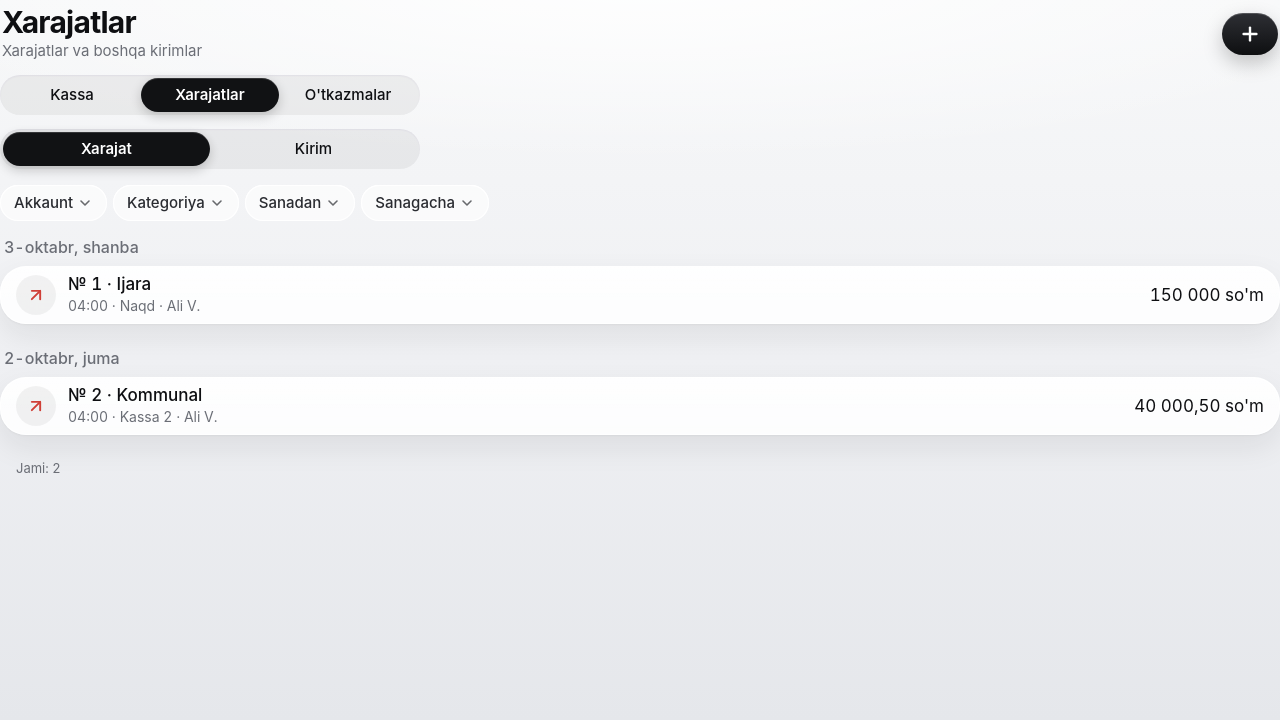
a row opens the sheet of its actions: editing in the expense's sheet, deleting after asking
Click the button "№ 1 · Ijara 04:00 · Naqd · Ali V. 150 000 so'm" at [36, 295], box [0, 266, 1279, 324]
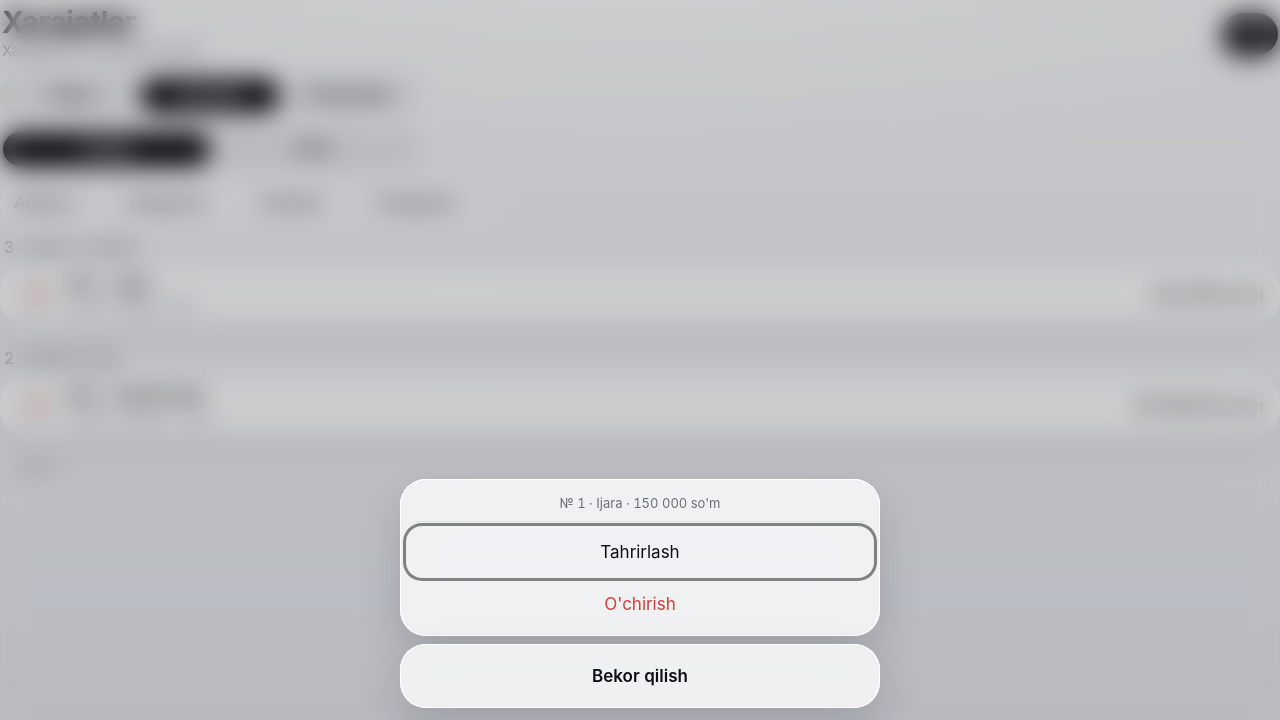
Result: the menu shows "№ 1 · Ijara · 150 000 so'm" at [560, 495, 720, 511]
Result: the menu items read "Tahrirlash", "O'chirish", in this order
Click the menu item "Tahrirlash" at [640, 552], box [406, 526, 874, 578]
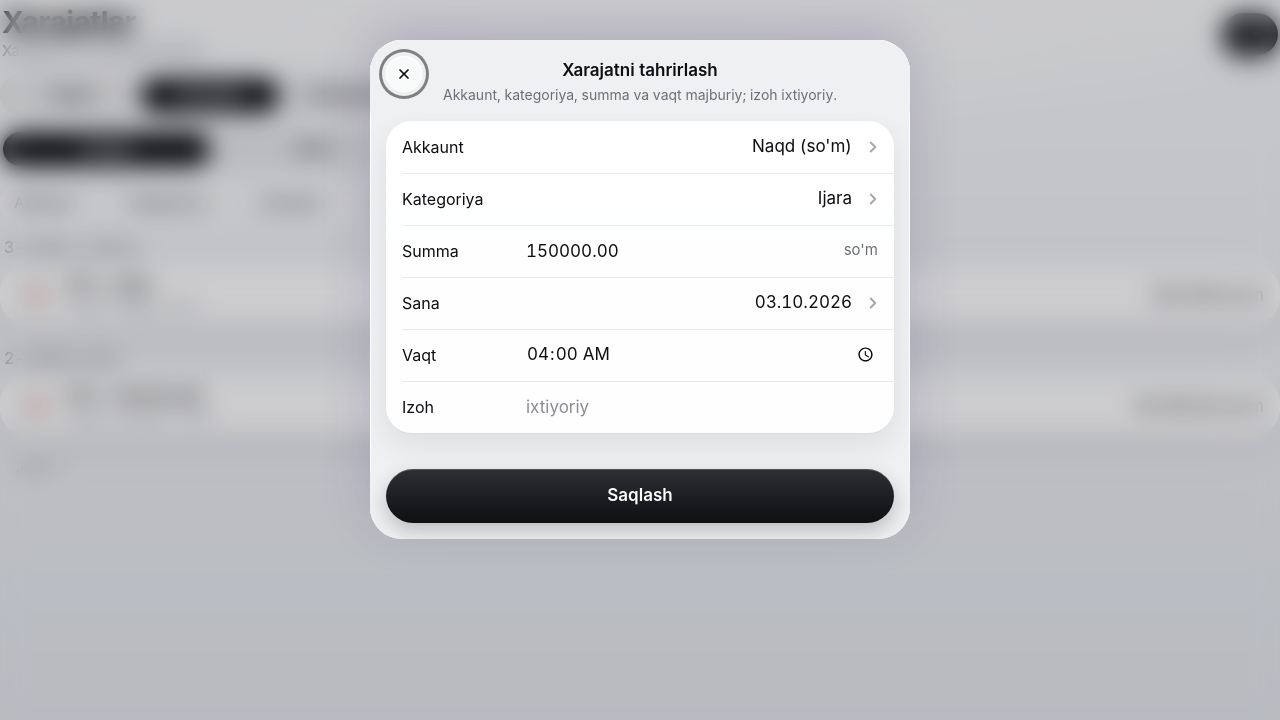
Result: the field labelled "Summa" holds "150000.00" at [526, 228, 832, 272]
Press Escape
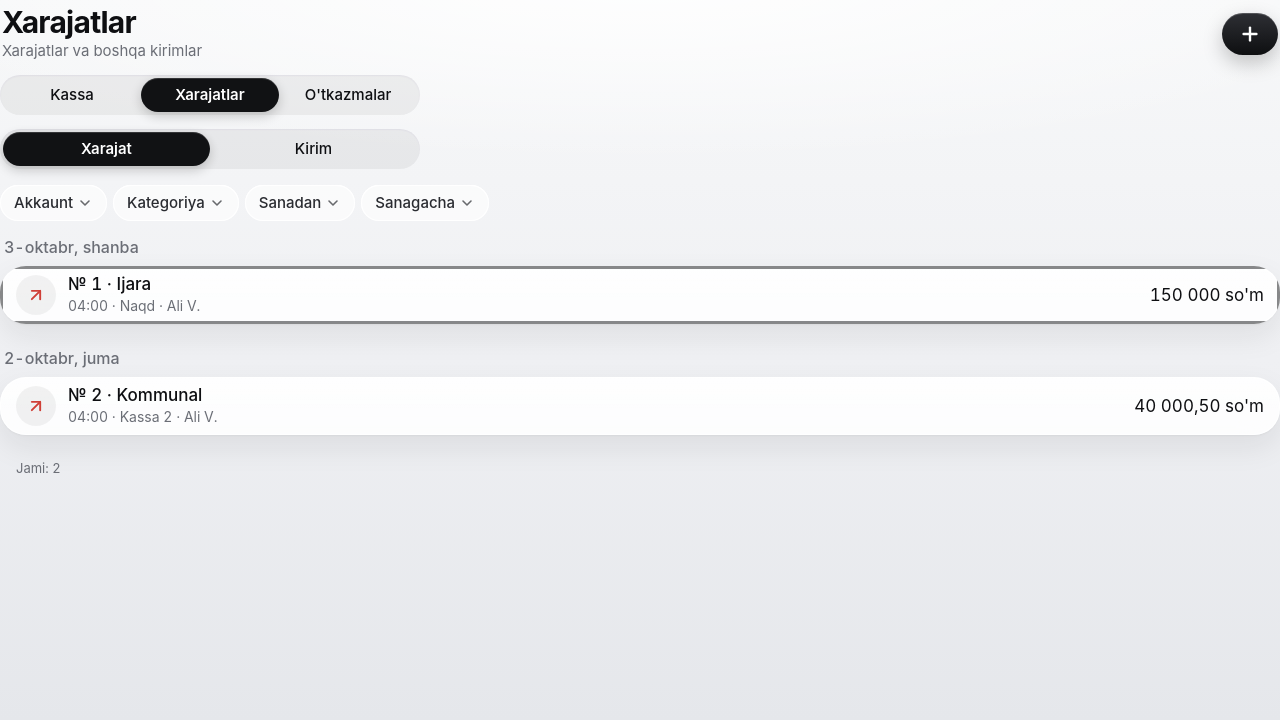
Result: the dialog is gone
Click the button "№ 1 · Ijara 04:00 · Naqd · Ali V. 150 000 so'm" at [36, 295], box [0, 266, 1279, 324]
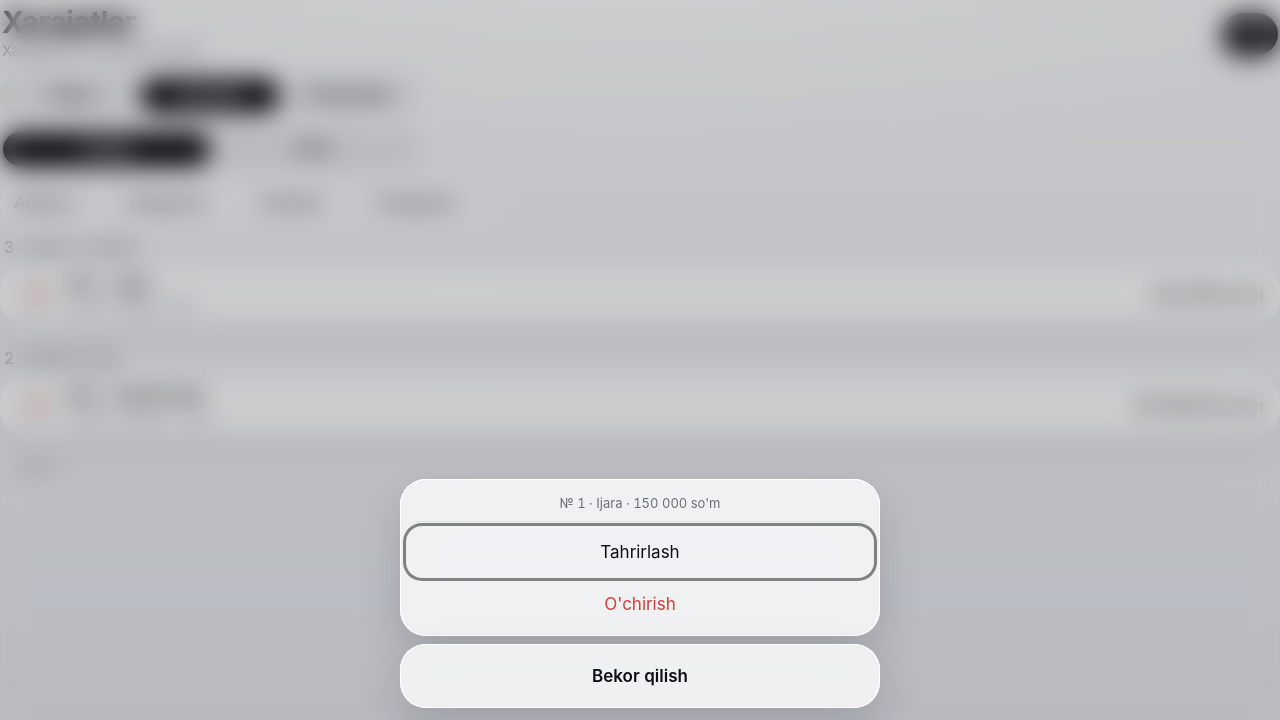
Click the menu item "O'chirish" at [640, 604], box [406, 578, 874, 630]
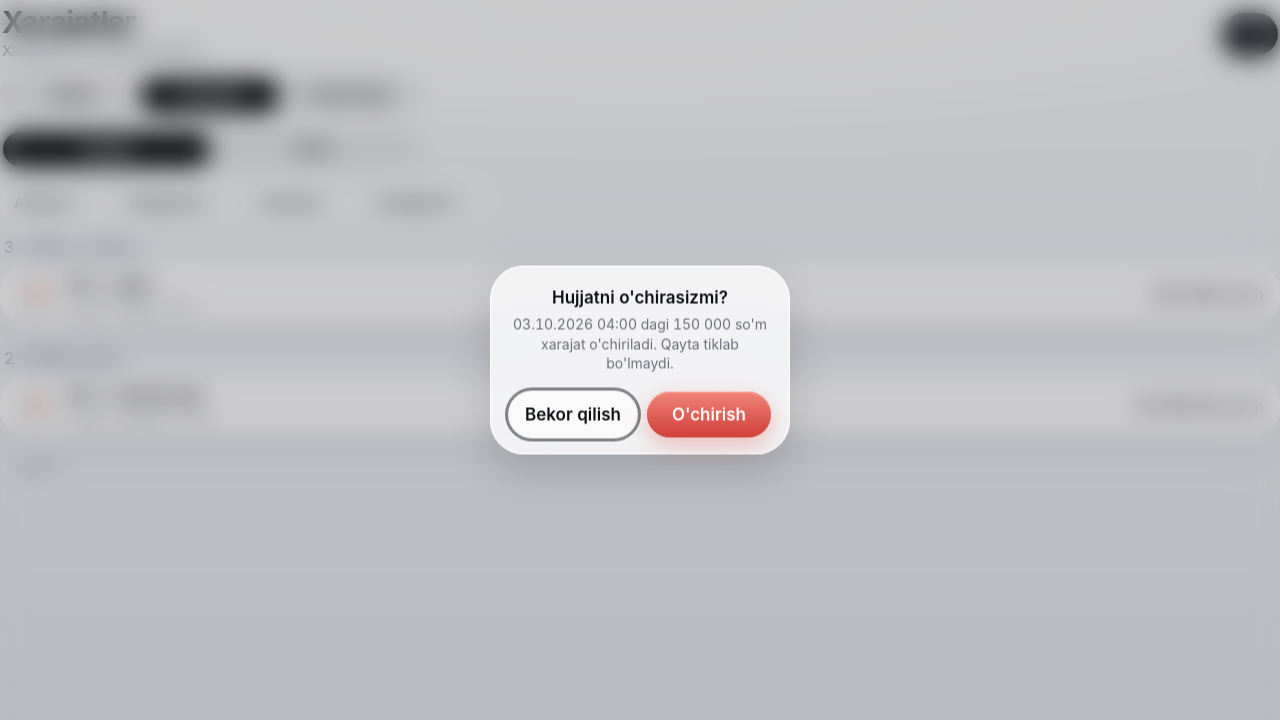
Result: the dialog "Hujjatni o'chirasizmi?" is shown at [490, 266, 790, 454]
